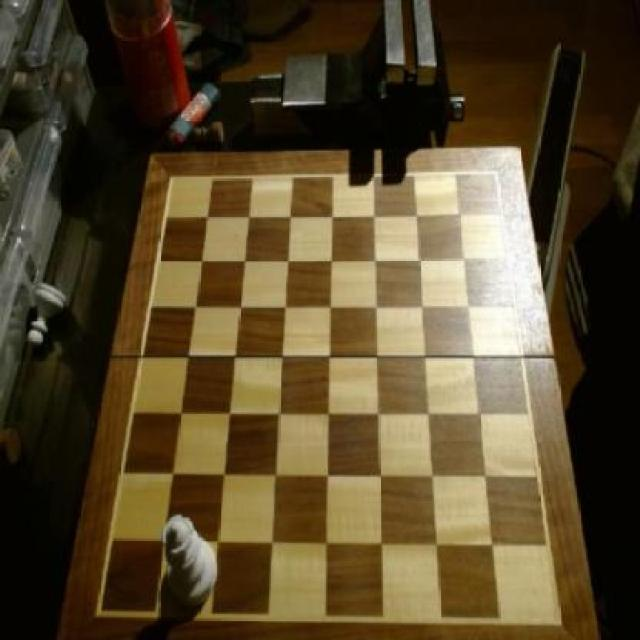white-pawn: (160, 512, 217, 610)
